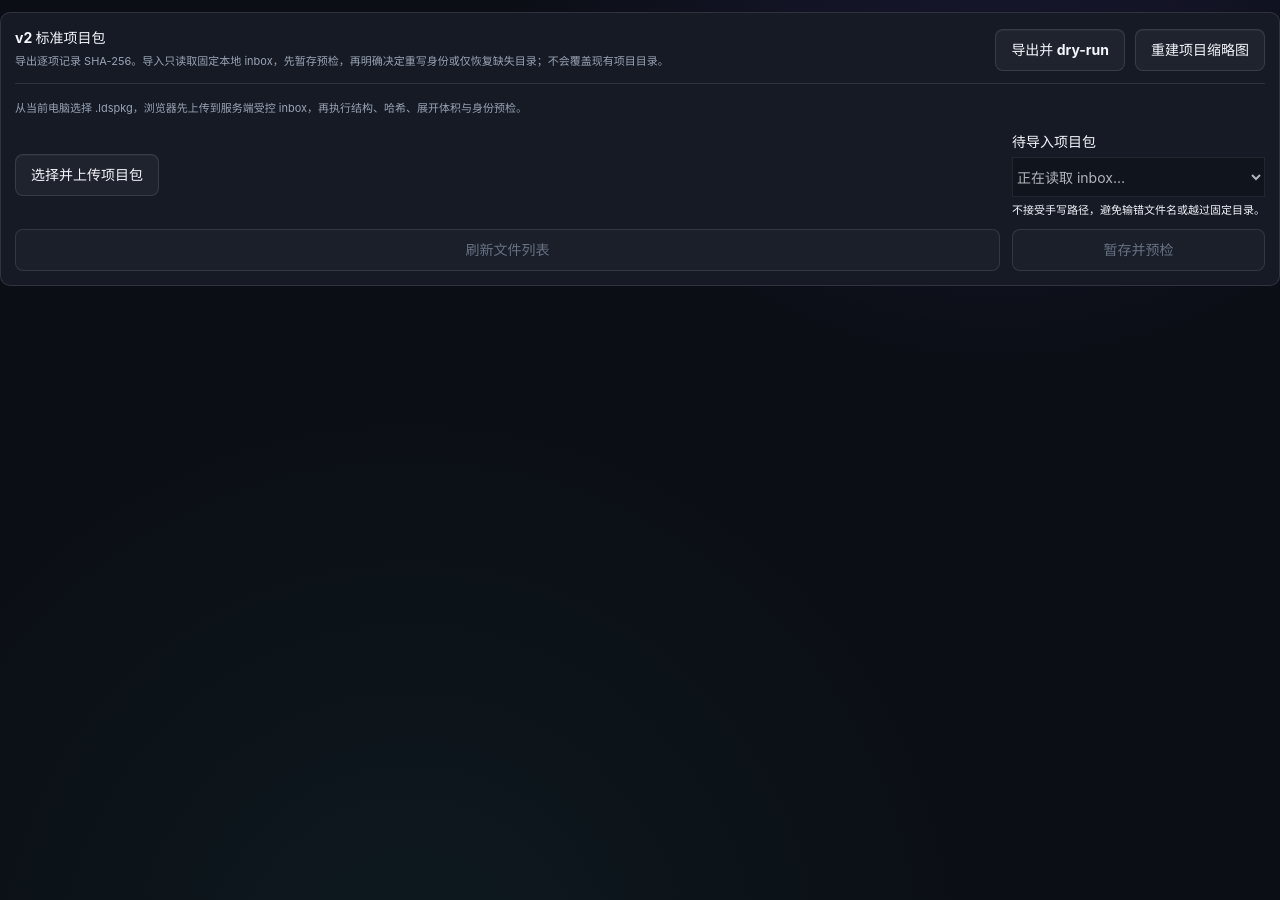
Test: ProjectPackageAction › separates historical type mismatches from retryable thumbnail failures
The width and height of the screenshot is (1280, 900).
Click the button "重建项目缩略图" at (1200, 50), box [1135,29,1265,71]
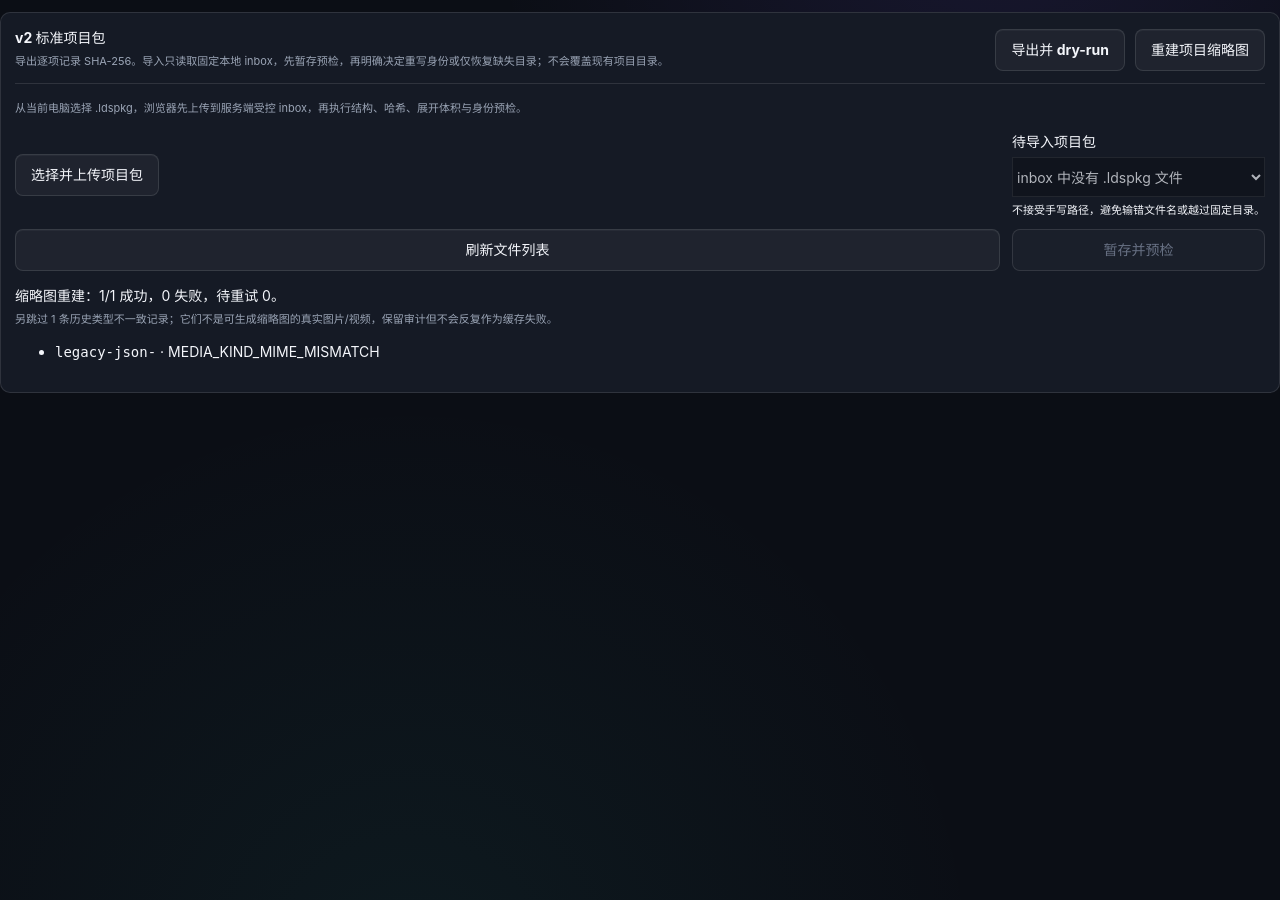
Check: the text "另跳过 1 条历史类型不一致记录；它们不是可生成缩略图的真实图片/视频，保留审计但不会反复作为缓存失败。" is shown, box [15,312,558,326]
Check: the text "legacy-json-" is shown, box [55,344,156,360]
Check: the list item "legacy-json- · MEDIA_KIND_MIME_MISMATCH" is shown, box [55,344,380,360]
